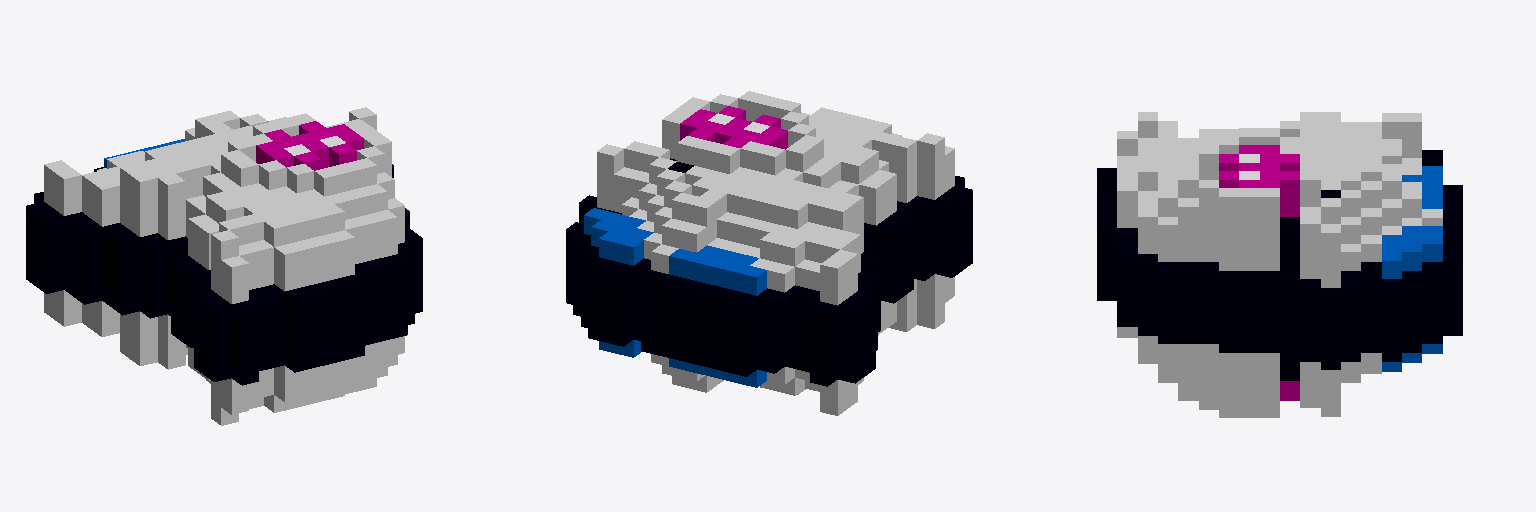
3 renders of one model, left to right at view 1: azimuth 30°, elevation 25°; view 2: azimuth 150°, elevation 25°; view 3: azimuth 270°, elevation 25°, orthographic.
Visible parts, largest first — view 1: object 1; view 2: object 1; view 3: object 1.
Part boxes in pixels (bbox=[...]): object 1: bbox=[26, 107, 422, 425]; object 1: bbox=[566, 91, 972, 415]; object 1: bbox=[1097, 112, 1462, 417].
Bounding box in the file's own units: 1.8 × 1.2 × 1.8.
1 materials, 1 textured.